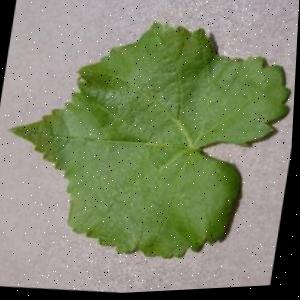Folha: (0, 3, 299, 279)
